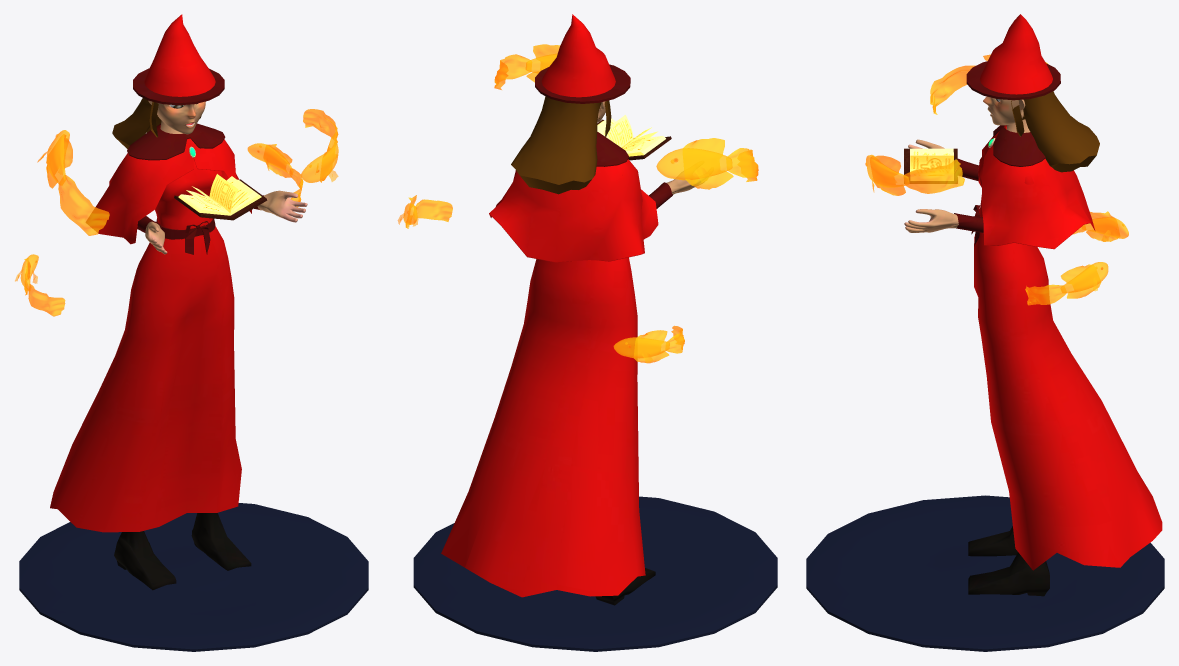
File: scene-transformed_home.glb
3 renders of one model, left to right at view 1: azimuth 30°, elevation 25°; view 2: azimuth 150°, elevation 25°; view 3: azimuth 270°, elevation 25°, orthographic. The views are drawn at different scales.
Visible parts, largest first — view 1: Object002_main 1_0, Object002_water_0, Object002_fish_0, Object002_main 2_0, Object002_shoes_0, Object002_skin_0, Object002_book page_0, Object002_hair_0, Object002_book back_0; view 2: Object002_main 1_0, Object002_water_0, Object002_fish_0, Object002_hair_0, Object002_main 2_0, Object002_book page_0; view 3: Object002_main 1_0, Object002_water_0, Object002_fish_0, Object002_hair_0, Object002_main 2_0, Object002_shoes_0, Object002_skin_0, Object002_book page_0.
Part boxes in pixels (x1=…): Object002_main 1_0: x1=50, y1=14, x2=252, y2=532; Object002_water_0: x1=19, y1=503, x2=368, y2=651; Object002_fish_0: x1=15, y1=109, x2=338, y2=316; Object002_main 2_0: x1=127, y1=68, x2=263, y2=254; Object002_shoes_0: x1=114, y1=513, x2=251, y2=590; Object002_skin_0: x1=145, y1=100, x2=307, y2=254; Object002_book page_0: x1=178, y1=174, x2=261, y2=215; Object002_hair_0: x1=112, y1=98, x2=201, y2=148; Object002_book back_0: x1=174, y1=179, x2=267, y2=220; Object002_main 1_0: x1=441, y1=14, x2=658, y2=597; Object002_water_0: x1=413, y1=496, x2=777, y2=651; Object002_fish_0: x1=397, y1=44, x2=758, y2=363; Object002_hair_0: x1=511, y1=96, x2=611, y2=194; Object002_main 2_0: x1=535, y1=64, x2=672, y2=208; Object002_book page_0: x1=597, y1=115, x2=665, y2=156; Object002_main 1_0: x1=974, y1=14, x2=1162, y2=570; Object002_water_0: x1=806, y1=495, x2=1164, y2=651; Object002_fish_0: x1=865, y1=54, x2=1128, y2=305; Object002_hair_0: x1=1011, y1=91, x2=1099, y2=172; Object002_main 2_0: x1=954, y1=61, x2=1060, y2=246; Object002_shoes_0: x1=968, y1=526, x2=1049, y2=596; Object002_skin_0: x1=904, y1=96, x2=1030, y2=232; Object002_book page_0: x1=910, y1=148, x2=953, y2=180.
Bounding box in the file's own units: 0.961 × 1.64 × 0.9465.
14 materials, 10 textured.
